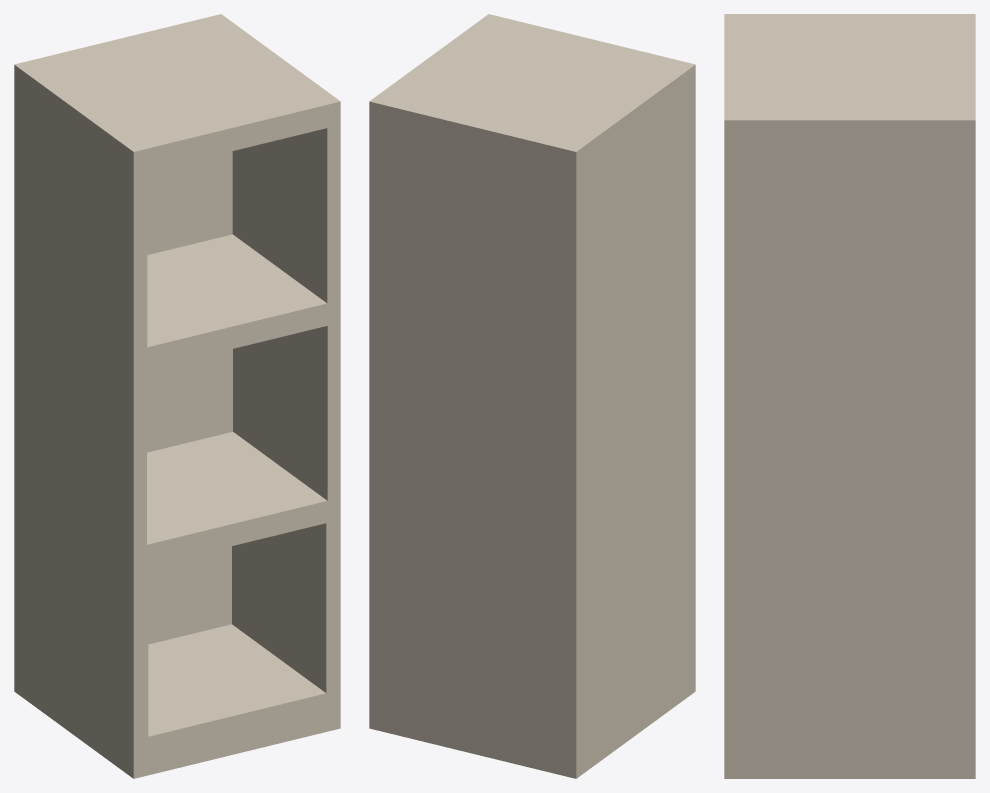
The model's file is scene_shelf.fbx.
The picture shows the model from 3 angles, left to right: view 1: azimuth 30°, elevation 25°; view 2: azimuth 150°, elevation 25°; view 3: azimuth 270°, elevation 25°; orthographic projection. The views are drawn at different scales.
Parts seen in each view (by area): view 1: shelf; view 2: shelf; view 3: shelf.
Boxes of the visible parts, <box> form: shelf: <box>14,14,340,778</box>; shelf: <box>369,14,695,778</box>; shelf: <box>724,14,975,778</box>.
Bounding box in the file's own units: 0.8571 × 2.48 × 0.8571.
